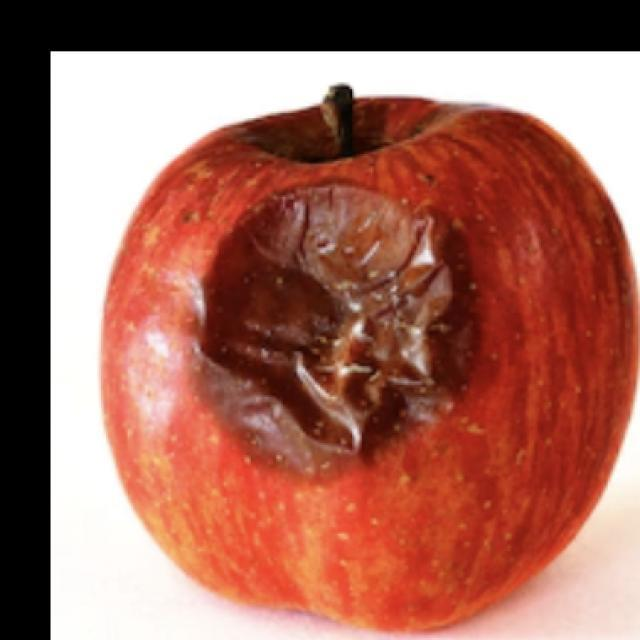Rotten: (94, 78, 640, 640)
